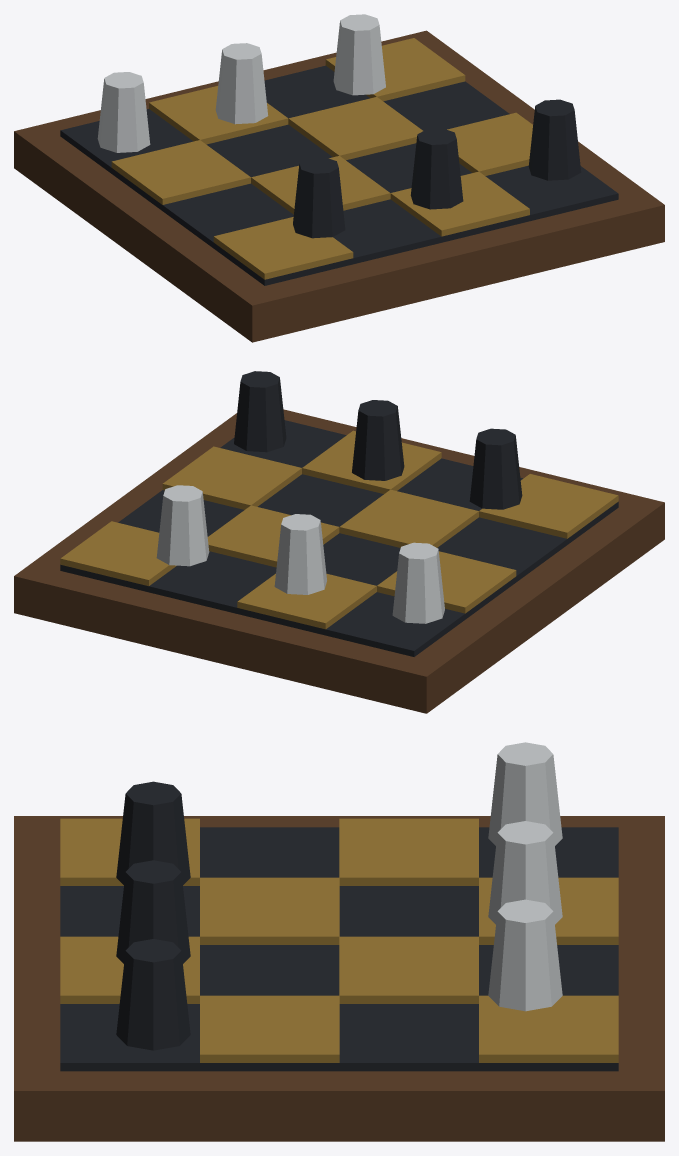
Rendered from chatta-ragul-set.glb.
3 views of the same model, one above another, from view 1: azimuth 30°, elevation 25°; view 2: azimuth 150°, elevation 25°; view 3: azimuth 270°, elevation 25° (orthographic). The views are drawn at different scales.
Parts seen in each view (by area): view 1: m; view 2: m; view 3: m.
Boxes of the visible parts, x1=… form: m: x1=14, y1=14, x2=664, y2=342; m: x1=14, y1=371, x2=664, y2=713; m: x1=14, y1=742, x2=664, y2=1141.
Size of the model in its own units: 0.14 by 0.036 by 0.14.
